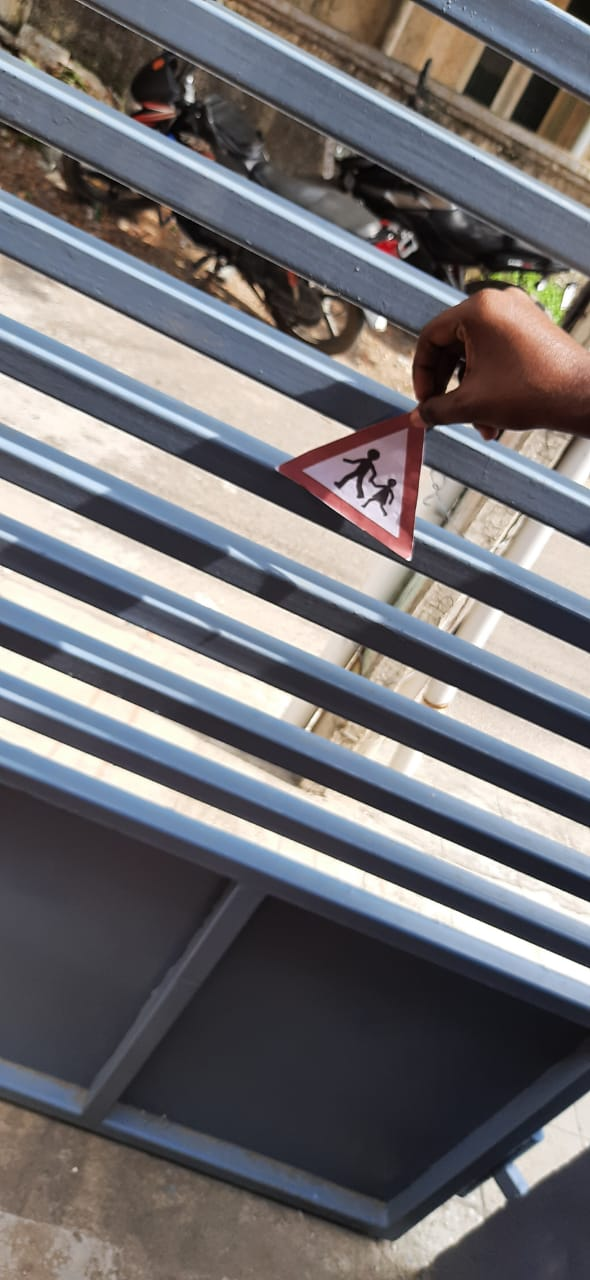SCHOOL ZONE: (257, 345, 425, 561)
